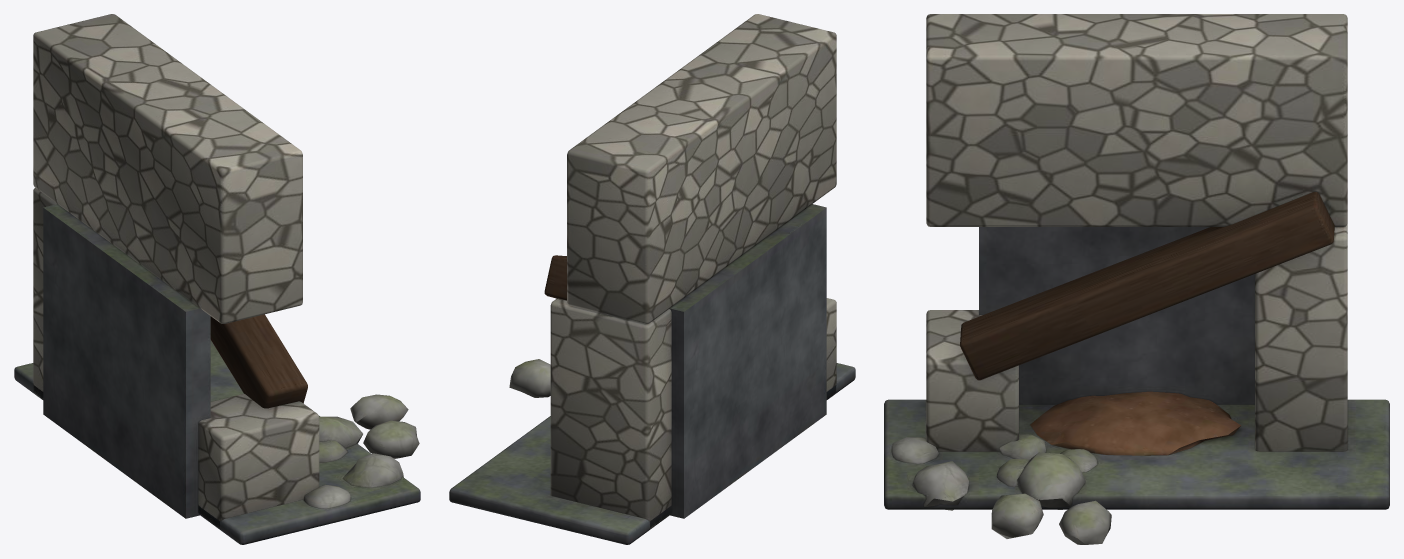
File: home_fireplace_broken.glb
3 renders of one model, left to right at view 1: azimuth 30°, elevation 25°; view 2: azimuth 150°, elevation 25°; view 3: azimuth 270°, elevation 25°, orthographic. The views are drawn at different scales.
Visible parts, largest first — view 1: home_fireplace_broken; view 2: home_fireplace_broken; view 3: home_fireplace_broken.
Boxes of the visible parts, bbox=[...] form: home_fireplace_broken: bbox=[14, 14, 420, 544]; home_fireplace_broken: bbox=[449, 14, 855, 544]; home_fireplace_broken: bbox=[884, 14, 1389, 544].
Bounding box in the file's own units: 1.62 × 2.13 × 2.4.
Materials: 1 (1 with a texture image).
